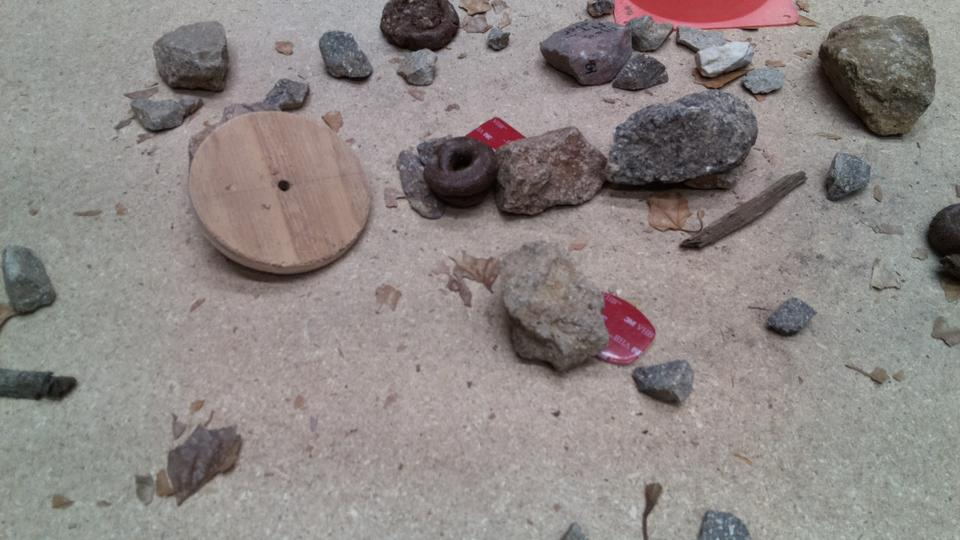poop: (424, 133, 499, 212), (379, 1, 460, 51), (925, 198, 960, 283)
